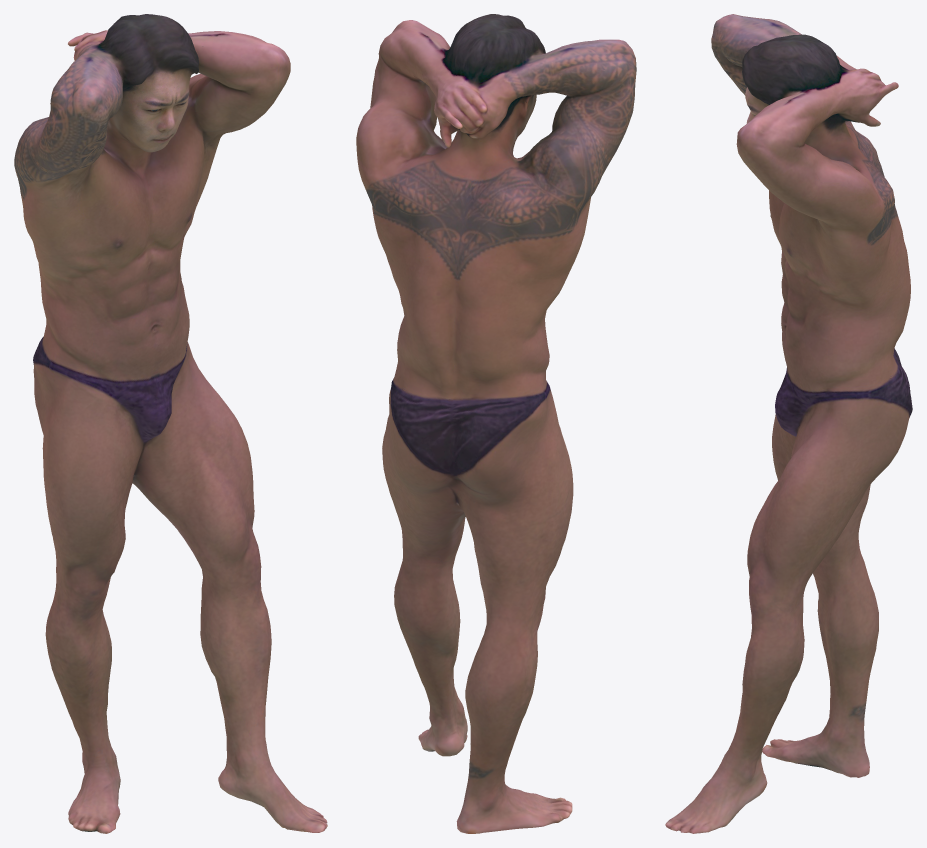
The picture shows the model from 3 angles, left to right: view 1: azimuth 30°, elevation 25°; view 2: azimuth 150°, elevation 25°; view 3: azimuth 270°, elevation 25°; orthographic projection. The views are drawn at different scales.
Visible parts, largest first — view 1: Frame_0161; view 2: Frame_0161; view 3: Frame_0161.
Part boxes in pixels (x1,y1,x2,y2): Frame_0161: [14, 14, 327, 833]; Frame_0161: [356, 14, 636, 833]; Frame_0161: [665, 14, 912, 833].
Size of the model in its own units: 0.5638 by 1.74 by 0.5278.
Materials: 1 (1 with a texture image).
